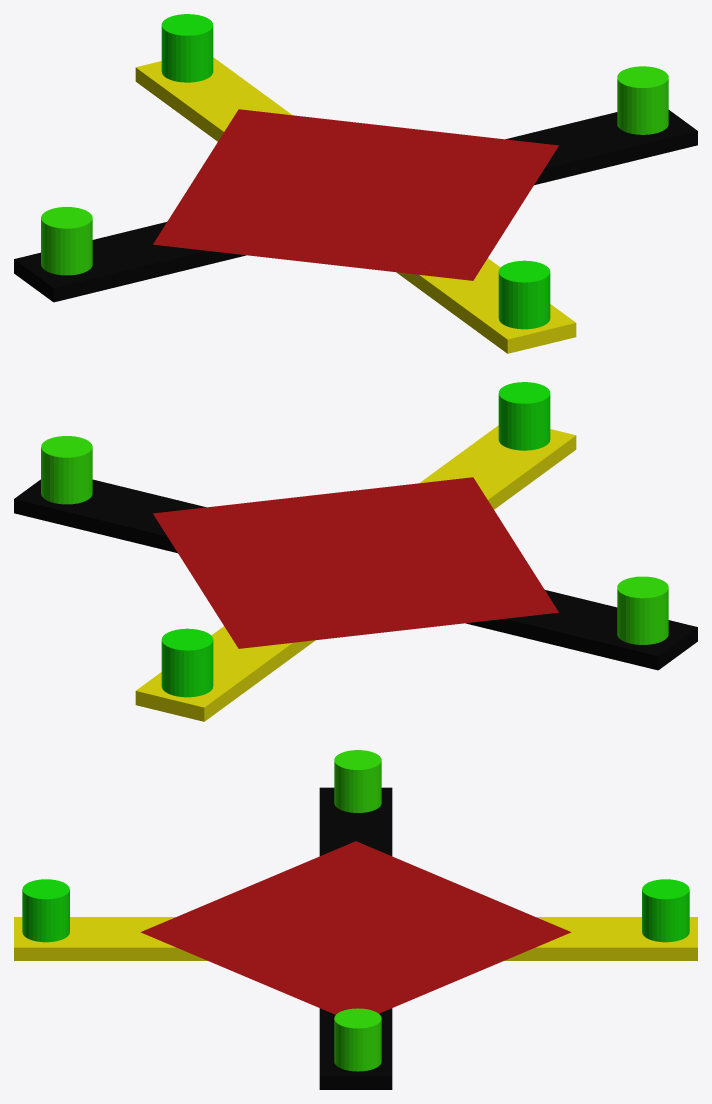
The model's file is quadtest.dae.
3 views of the same model, one above another, from view 1: azimuth 30°, elevation 25°; view 2: azimuth 150°, elevation 25°; view 3: azimuth 270°, elevation 25° (orthographic). The views are drawn at different scales.
Visible parts, largest first — view 1: Plane, Cube, Cube.001, Cylinder, Cylinder.001; view 2: Plane, Cube, Cube.001, Cylinder, Cylinder.001; view 3: Plane, Cube.001, Cube, Cylinder.001, Cylinder.
Boxes of the visible parts, x1,y1,x2,y2 form: Plane: (153, 109, 558, 280); Cube: (14, 110, 697, 302); Cube.001: (135, 57, 576, 353); Cylinder: (161, 14, 550, 329); Cylinder.001: (41, 66, 668, 275); Plane: (153, 477, 558, 648); Cube: (14, 479, 697, 670); Cube.001: (135, 425, 576, 721); Cylinder: (161, 382, 550, 697); Cylinder.001: (41, 436, 668, 644); Plane: (140, 841, 571, 1014); Cube.001: (14, 917, 697, 960); Cube: (319, 787, 392, 1089); Cylinder.001: (334, 750, 381, 1071); Cylinder: (22, 879, 689, 942).
Size of the model in its own units: 1.5 by 1.5 by 0.1359.
